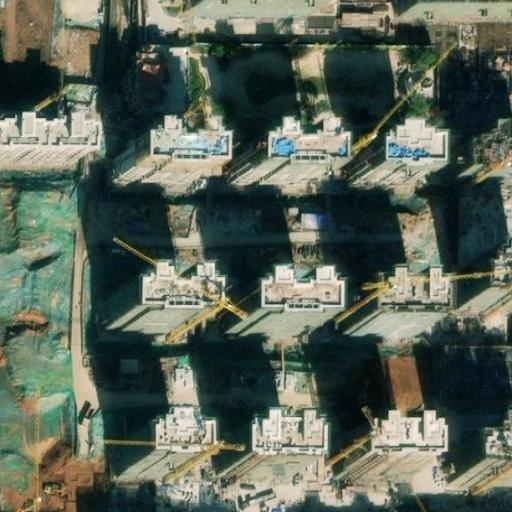building: (234, 140, 316, 191), (107, 287, 190, 335), (227, 293, 310, 337), (116, 142, 198, 186), (438, 145, 512, 193), (217, 435, 294, 480), (344, 290, 417, 336), (0, 126, 83, 164), (336, 436, 411, 478), (449, 437, 512, 484), (454, 263, 512, 314), (120, 432, 182, 478), (352, 145, 412, 187), (196, 0, 320, 16), (404, 0, 512, 15), (165, 48, 186, 113), (331, 9, 380, 32)
